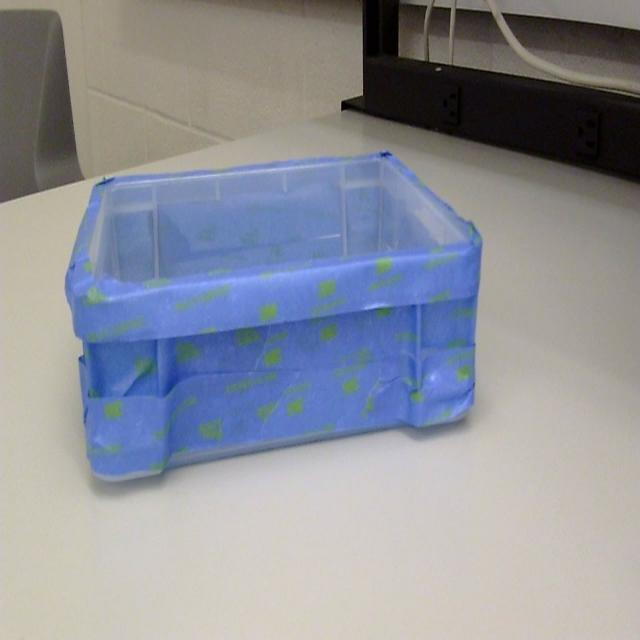bucket: (63, 151, 484, 488)
